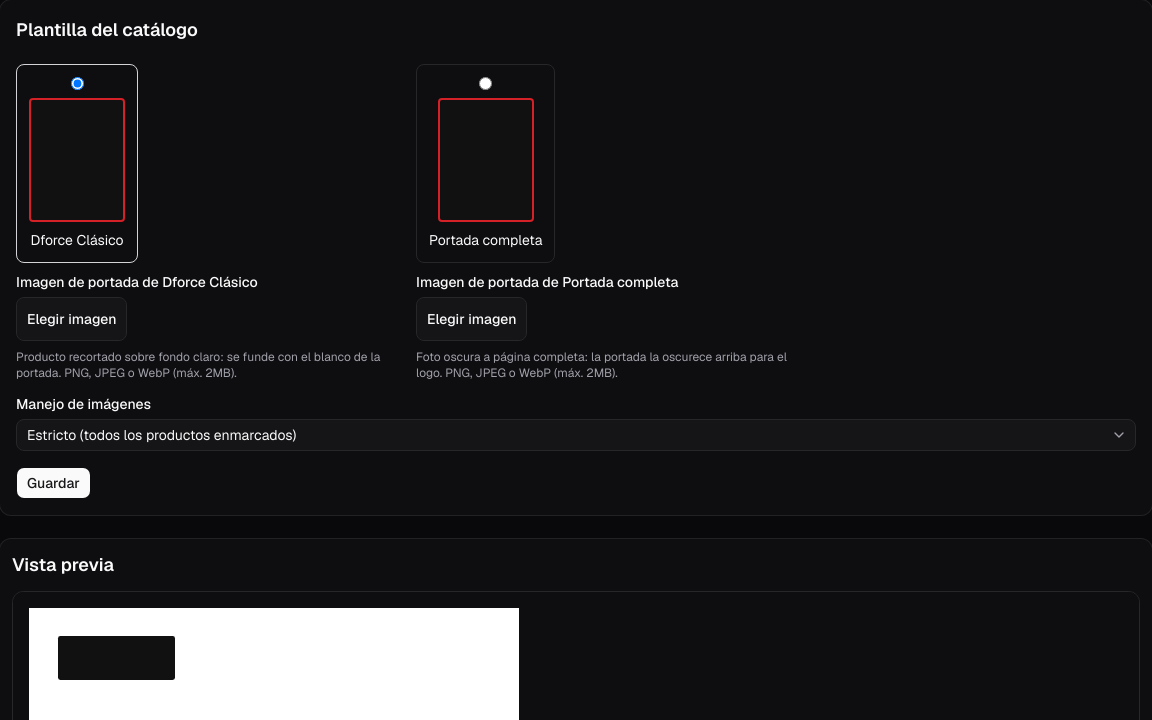
TemplateConfigForm — gallery picker › previews the full-cover title split once that template is picked
This screenshot has width=1152, height=720.
Click the radio button labelled "Portada completa" at [486, 84], box x1=479 y1=77 x2=492 y2=90
(page scrolled)
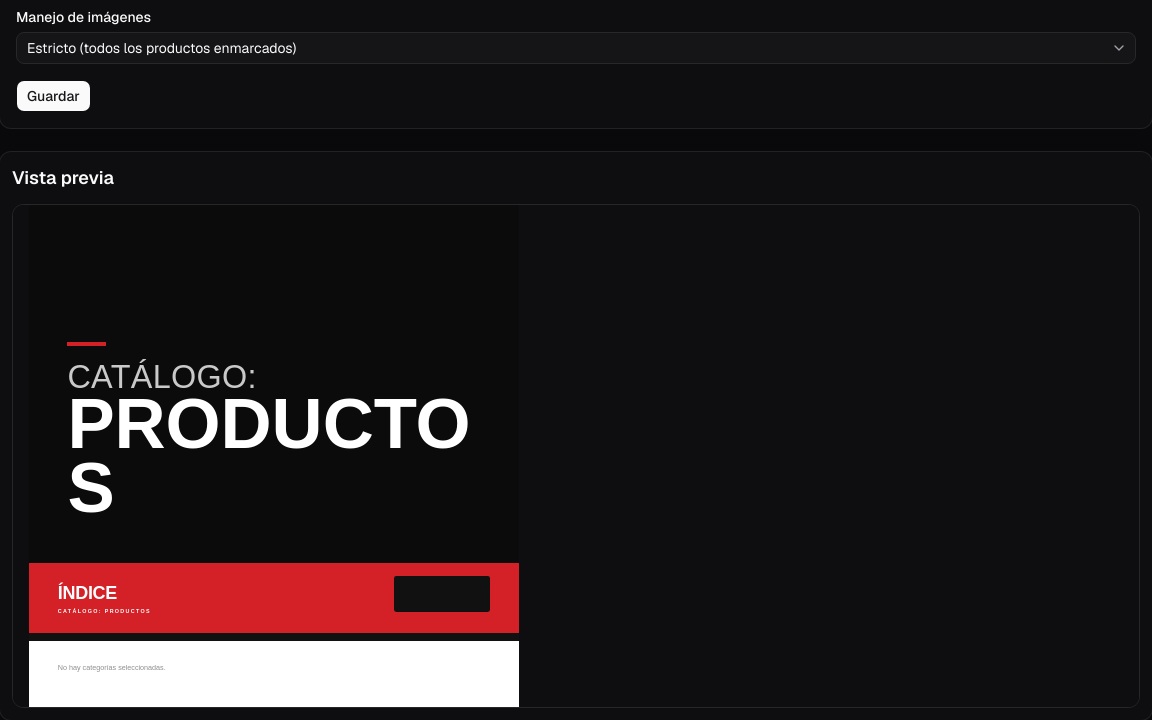
Now the text "Catálogo:" is shown, box x1=67 y1=359 x2=257 y2=395
Now the text "Productos" is shown, box x1=67 y1=392 x2=480 y2=519
